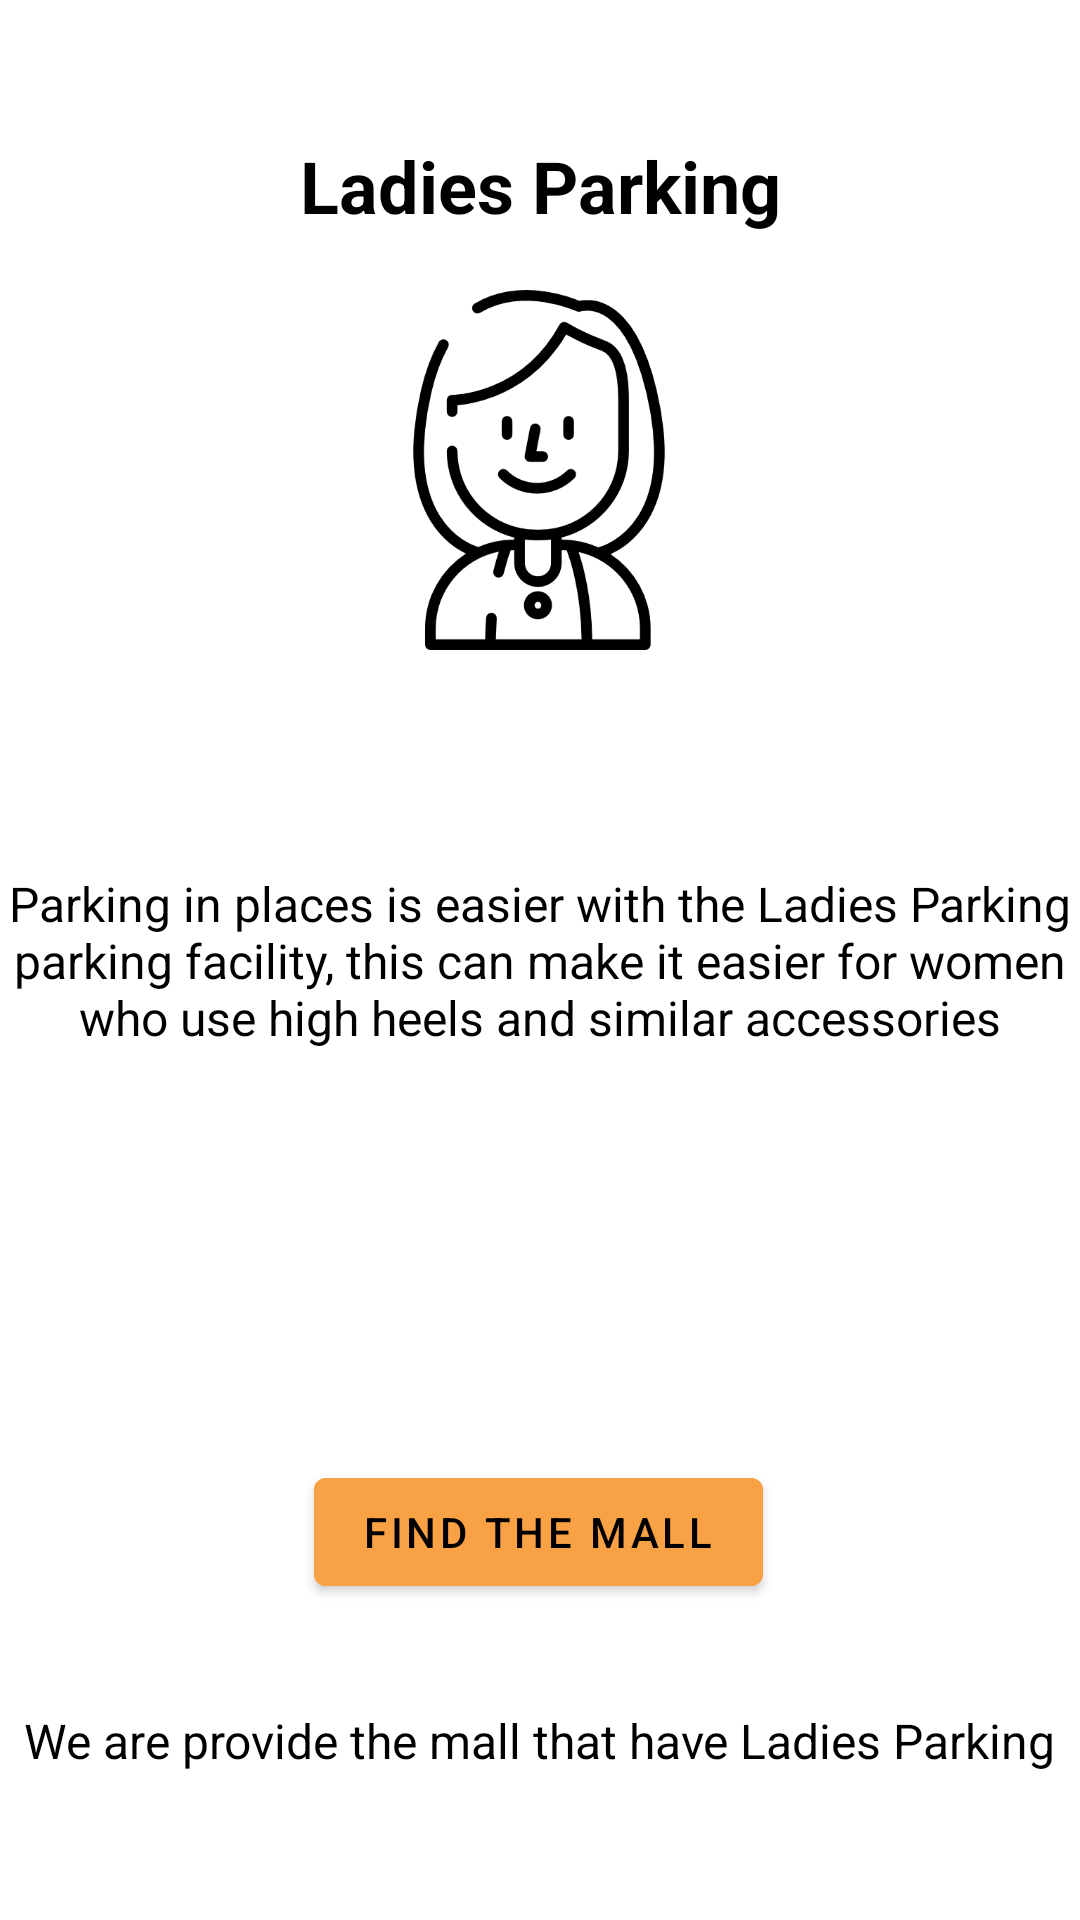

Icon bounding boxes for this 1080*1920 phone screenshot, format (x1, y1, x2, y2):
girl: (413, 290, 665, 650)
